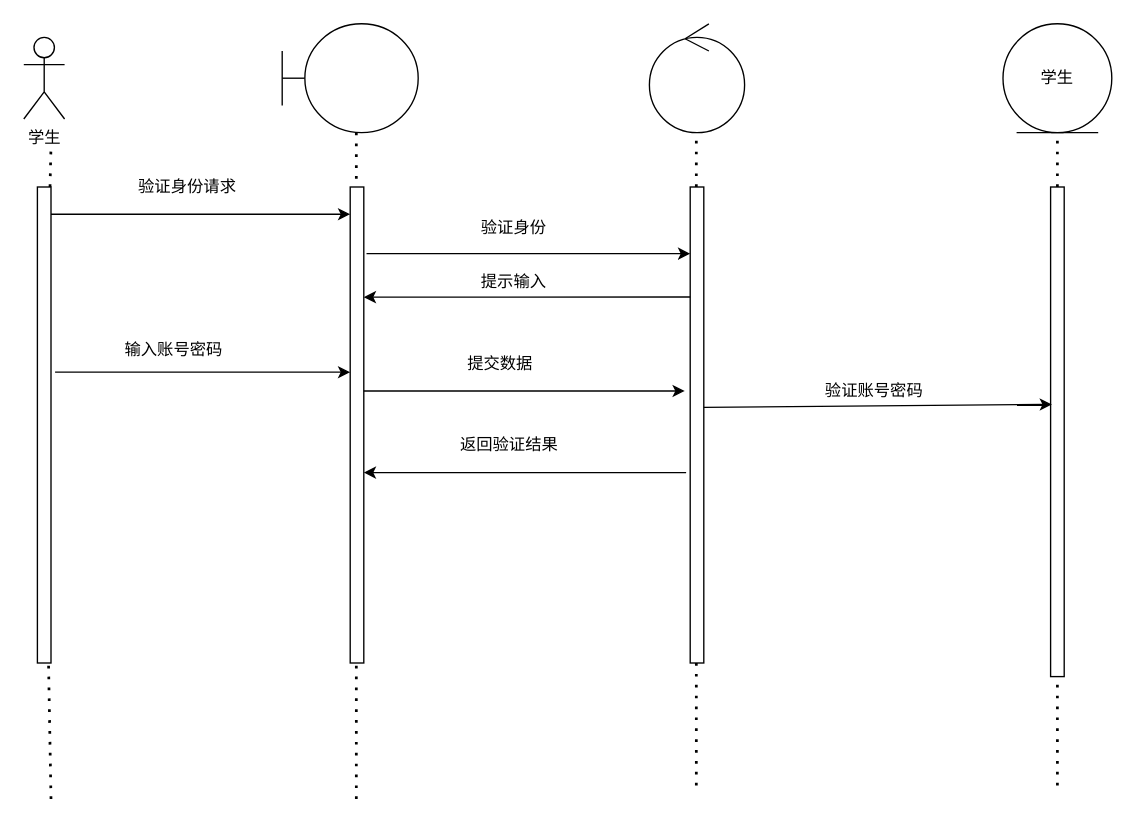
The diagram is 1136 pixels wide and 826 high, and some of its shapes have lost their labels. Each missing label, with the centre of its shape:
Boundary Object: the point at 349,77
Control Object: the point at 696,77
